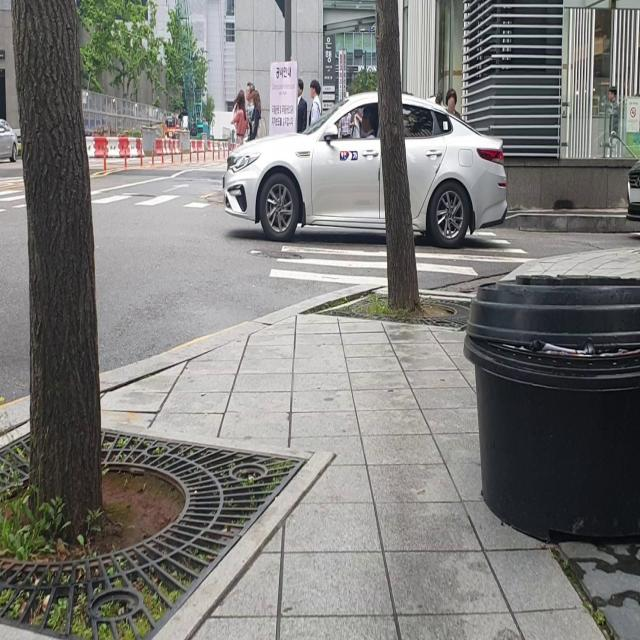횡단보도: (268, 230, 536, 289), (0, 184, 223, 217)
